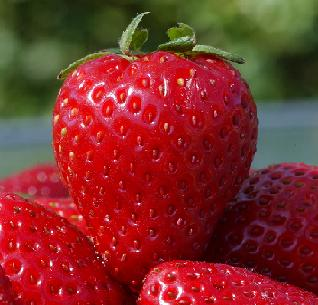strawberry: (55, 37, 259, 270)
